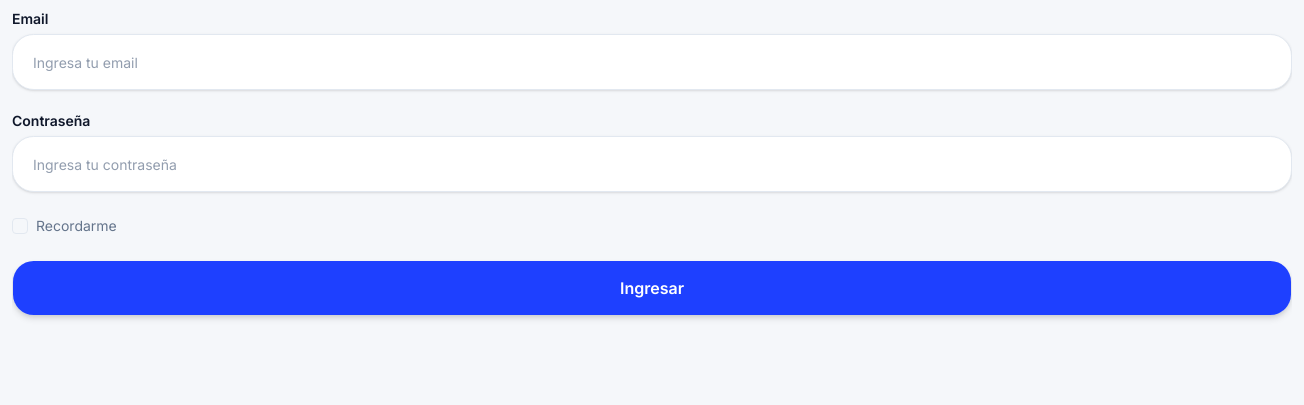
it: LoginForm › muestra error del servidor cuando login falla
The width and height of the screenshot is (1304, 405).
Type "user@suragaming.com" into the field labelled "Email" at (652, 62), box [12, 34, 1292, 90]
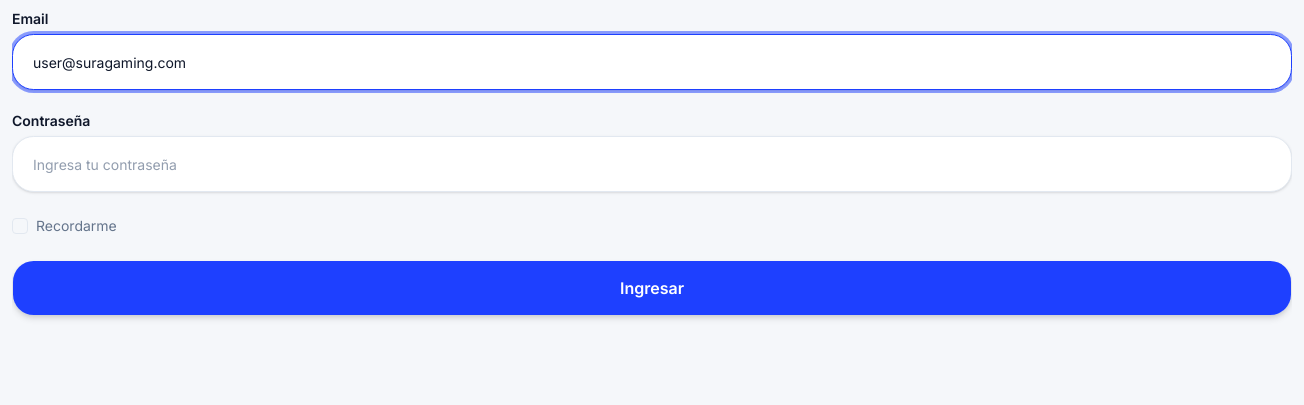
Type "wrong" into the password field labelled "Contraseña" at (652, 164), box [12, 136, 1292, 192]
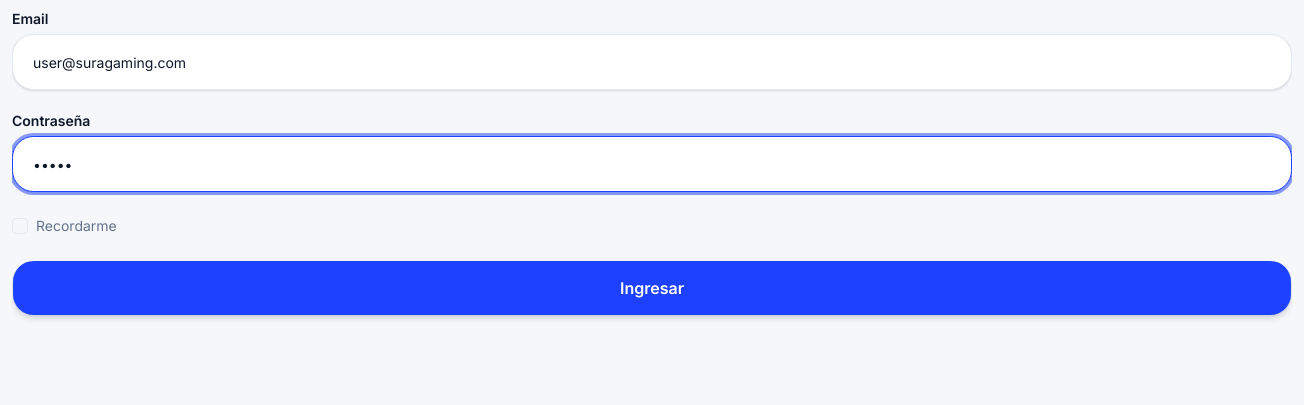
Click the button "Ingresar" at (652, 288), box [12, 260, 1292, 316]
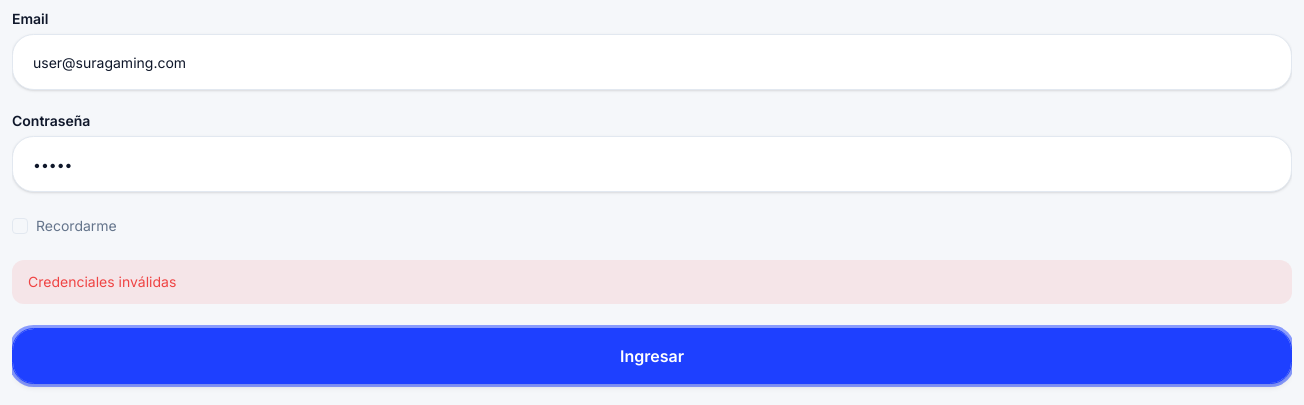
Check: the text "Credenciales inválidas" is shown, box [12, 260, 1292, 304]
